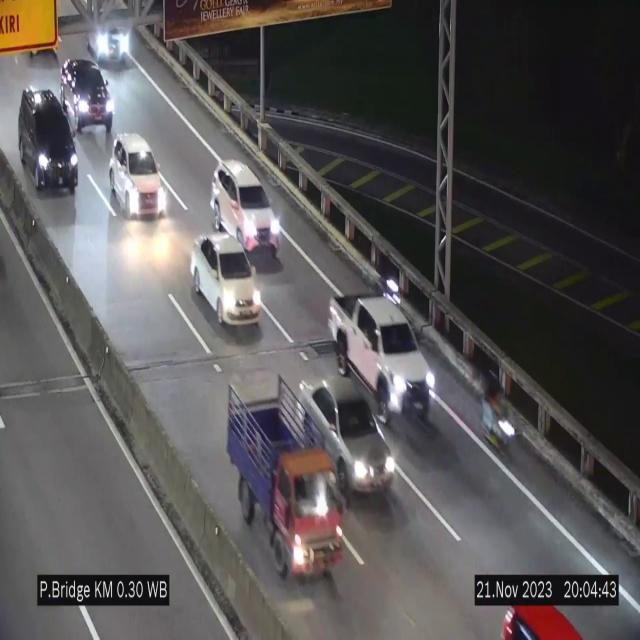Car: (328, 294, 436, 431), (297, 373, 398, 507), (16, 85, 82, 198), (191, 232, 261, 328), (210, 160, 278, 256), (109, 133, 163, 216), (60, 55, 114, 135), (498, 603, 584, 640), (84, 1, 129, 70)
Motorcycle: (479, 368, 517, 462), (373, 251, 402, 310)
Truck: (225, 373, 349, 586)
